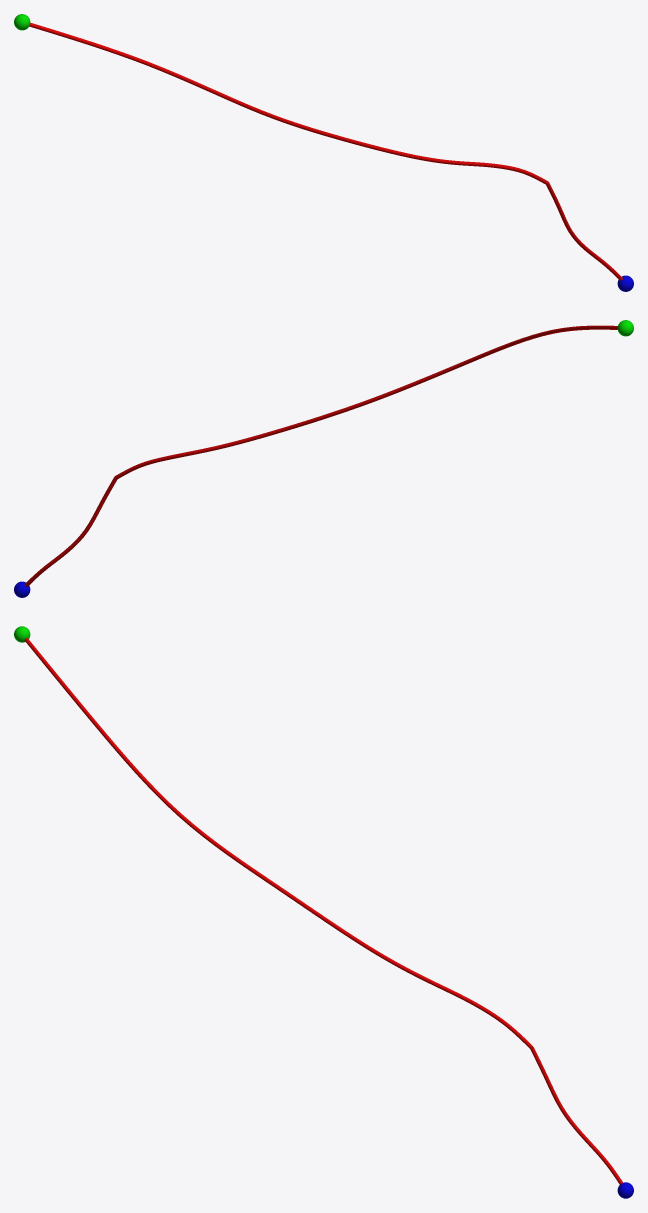
The model's file is paths.obj.
3 renders of one model, top to bottom at view 1: azimuth 30°, elevation 25°; view 2: azimuth 150°, elevation 25°; view 3: azimuth 330°, elevation 25°, orthographic.
Size of the model in its own units: 1.74 by 1.14 by 0.2002.
